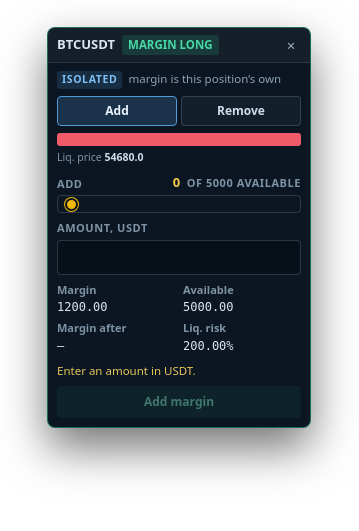
Test: FuturesPositionMarginEditor › says so plainly when a position is already at its floor
The width and height of the screenshot is (359, 531).
Click the button "Remove" at [241, 111], box [181,96,301,126]
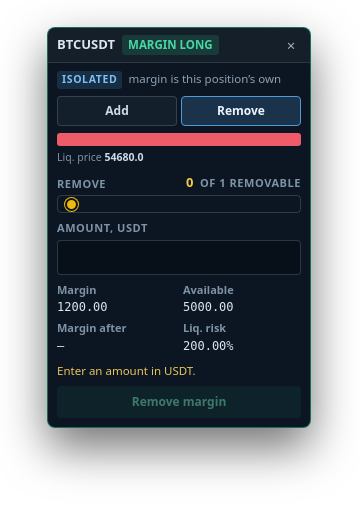
Type "10" into the field named "Margin amount in USDT" at [179, 257], box [57,240,301,274]
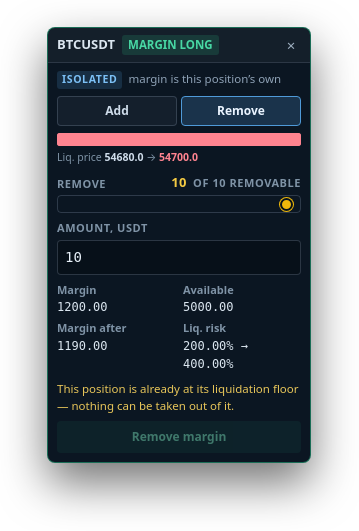
Now the message shows "already at its liquidation floor", box [57,380,298,413]
